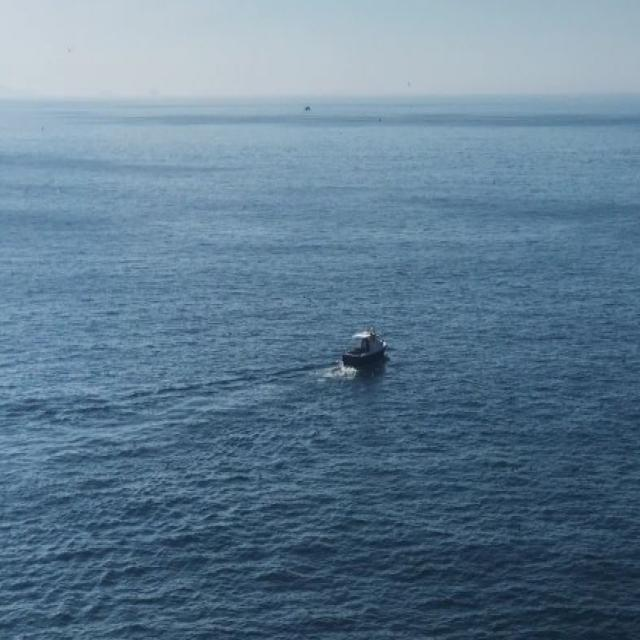houseboat: (341, 318, 391, 375)
